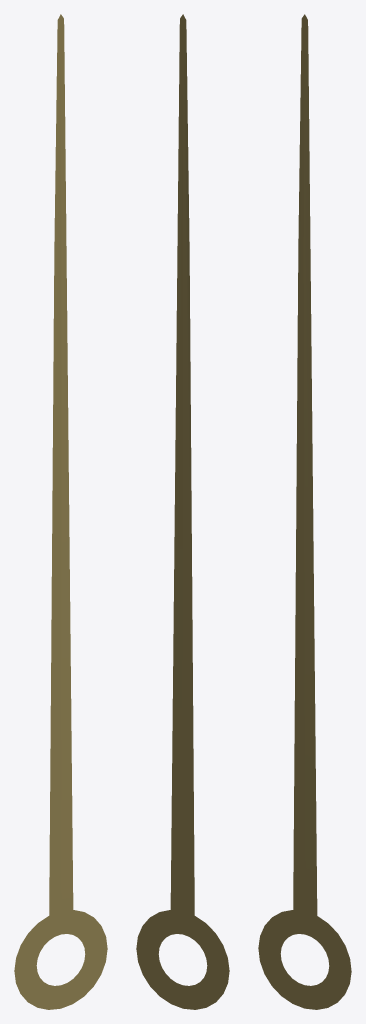
The model's file is mdl_hub_goldsecondhand.gltf.
3 views of the same model, side by side, from view 1: azimuth 30°, elevation 25°; view 2: azimuth 150°, elevation 25°; view 3: azimuth 330°, elevation 25° (orthographic).
Visible parts, largest first — view 1: second; view 2: second; view 3: second.
Part boxes in pixels (x1,y1,x2,y2): second: [14, 14, 107, 1009]; second: [136, 14, 229, 1009]; second: [258, 14, 351, 1009].
Size of the model in its own units: 0.0162 by 0.1646 by 0.000366.
